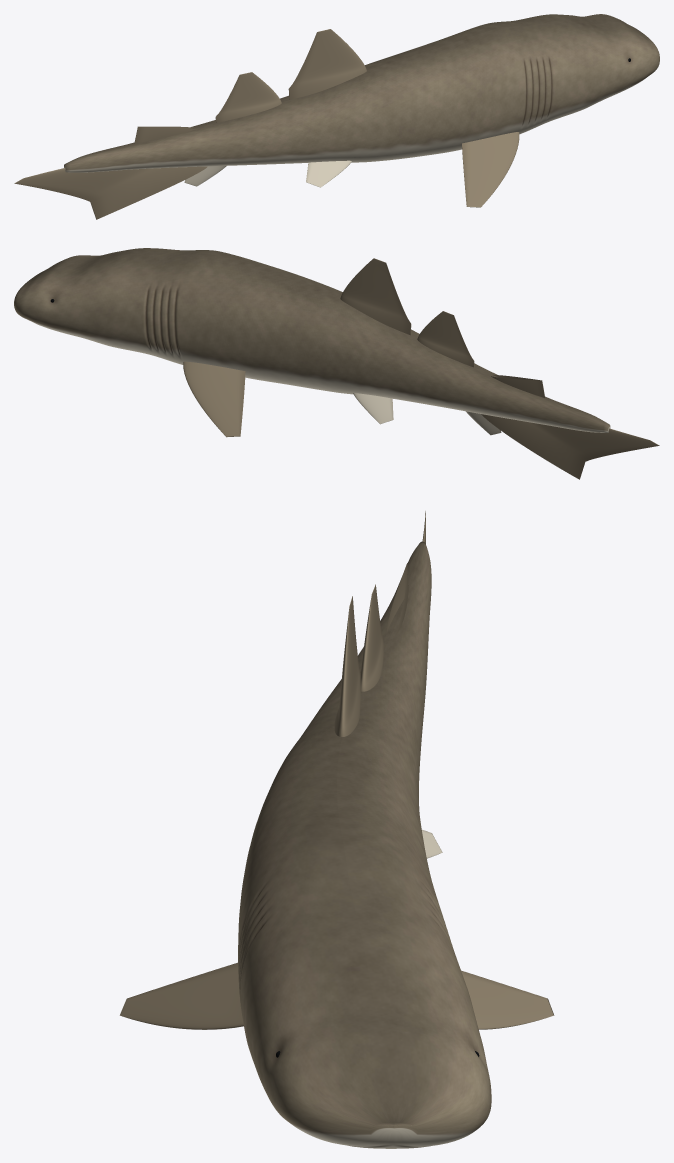
Rendered from tawny_nurse_shark.glb.
The picture shows the model from 3 angles, top to bottom: view 1: azimuth 30°, elevation 25°; view 2: azimuth 150°, elevation 25°; view 3: azimuth 270°, elevation 25°; orthographic projection. The views are drawn at different scales.
Visible parts, largest first — view 1: TawnyNurseShark_Body, TawnyNurseShark_Fins; view 2: TawnyNurseShark_Body, TawnyNurseShark_Fins; view 3: TawnyNurseShark_Body, TawnyNurseShark_Fins.
Part boxes in pixels (left/top/right/bottom): TawnyNurseShark_Body: left=64, top=14, right=659, bottom=172; TawnyNurseShark_Fins: left=14, top=29, right=519, bottom=219; TawnyNurseShark_Body: left=14, top=248, right=610, bottom=432; TawnyNurseShark_Fins: left=183, top=258, right=659, bottom=479; TawnyNurseShark_Body: left=238, top=541, right=491, bottom=1148; TawnyNurseShark_Fins: left=119, top=511, right=554, bottom=1029.
Size of the model in its own units: 2.5 by 0.6077 by 0.7511.
3 materials, 1 textured.
